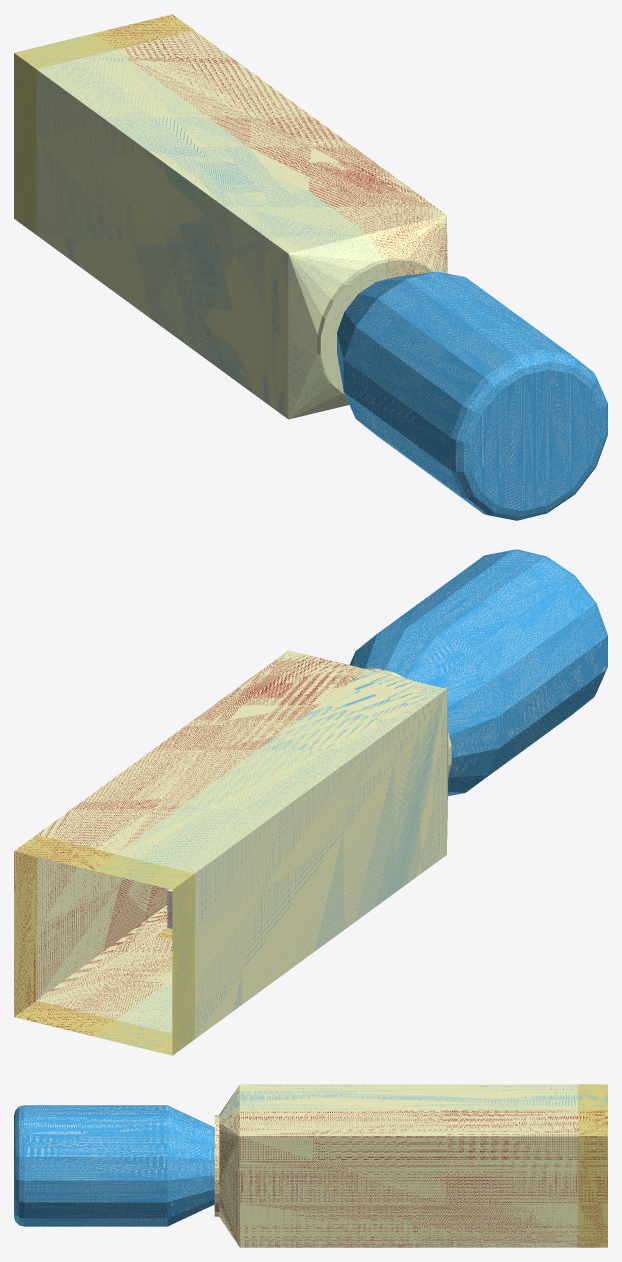
3 renders of one model, top to bottom at view 1: azimuth 30°, elevation 25°; view 2: azimuth 150°, elevation 25°; view 3: azimuth 270°, elevation 25°, orthographic. The views are drawn at different scales.
Parts seen in each view (by area): view 1: water cooler; view 2: water cooler; view 3: water cooler.
Boxes of the visible parts, left/top/right/bottom form: water cooler: left=14, top=14, right=607, bottom=520; water cooler: left=14, top=549, right=607, bottom=1055; water cooler: left=14, top=1084, right=607, bottom=1247.
Bounding box in the file's own units: 12 × 12.12 × 58.06.
